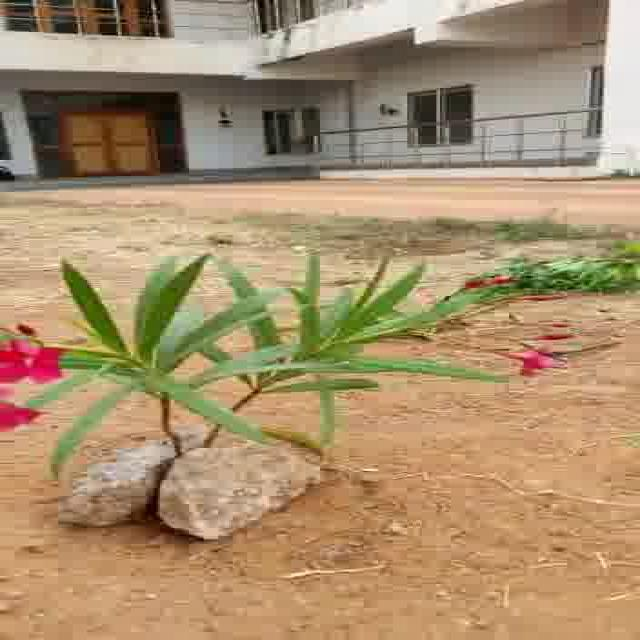Oleander: (42, 253, 548, 420)
